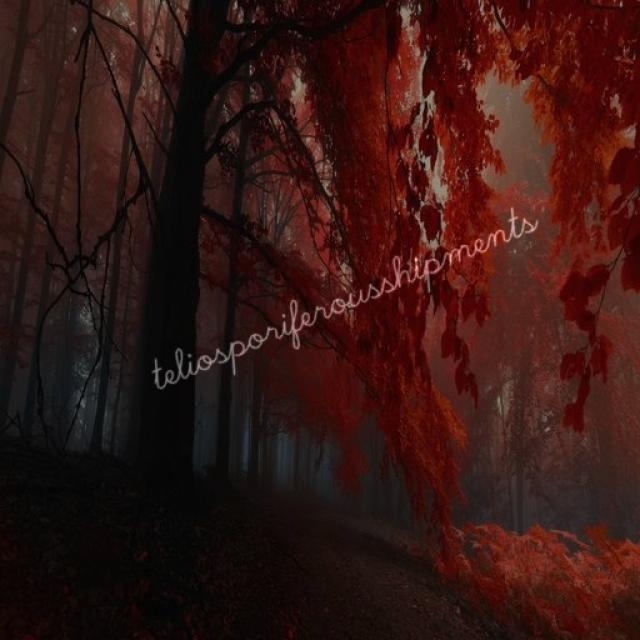watermark: (148, 195, 540, 396)
